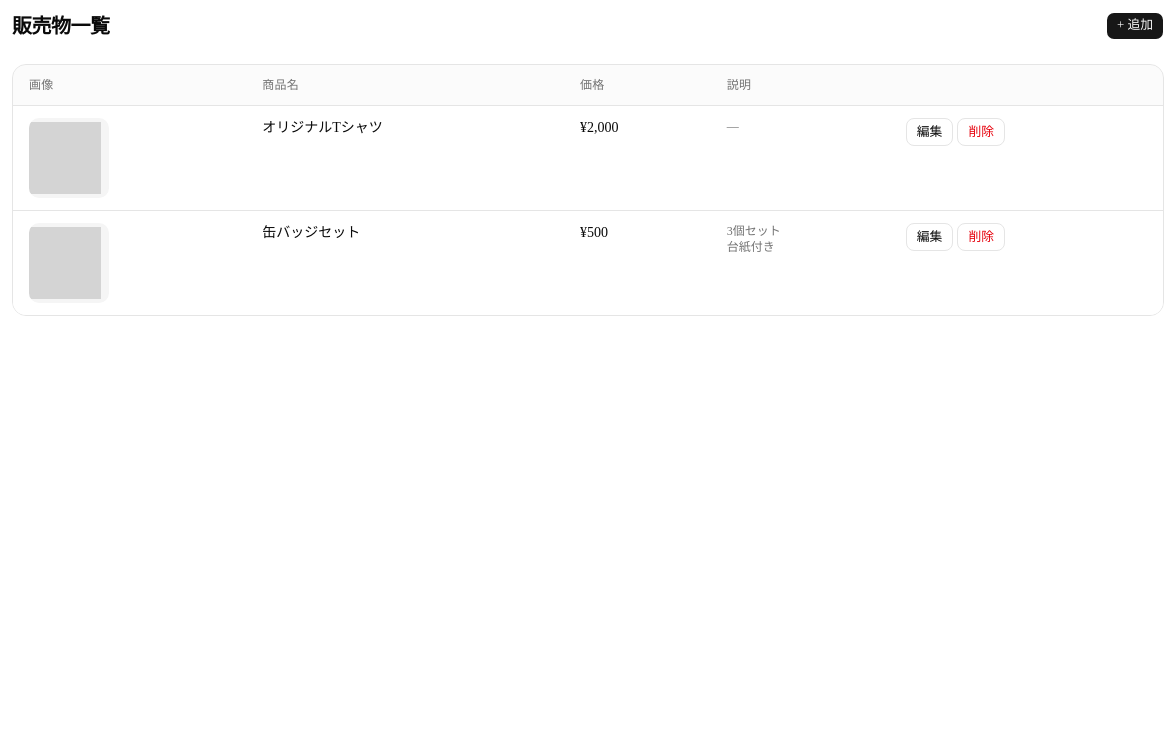
Test: ShopItemAdminPanel › キャンセルボタンでフォームを閉じる
The width and height of the screenshot is (1176, 732).
Click the button "+ 追加" at (1135, 26), box [1106, 12, 1164, 40]
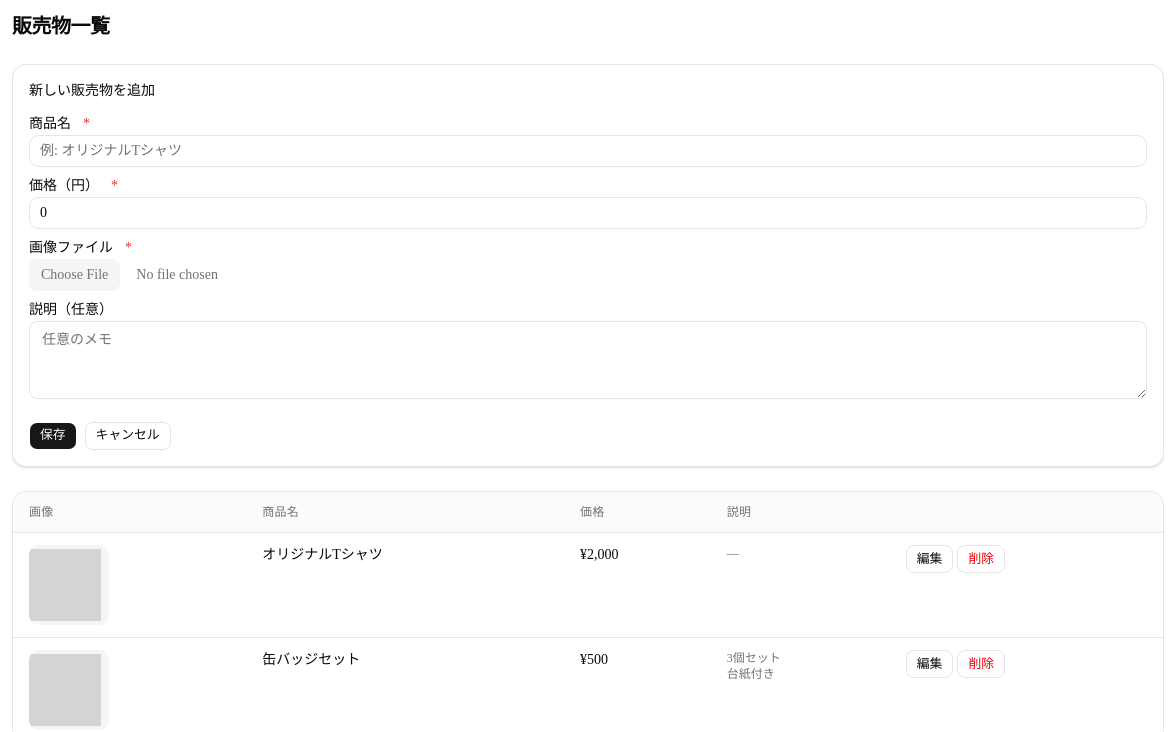
Click the button "キャンセル" at (128, 436), box [85, 422, 171, 450]
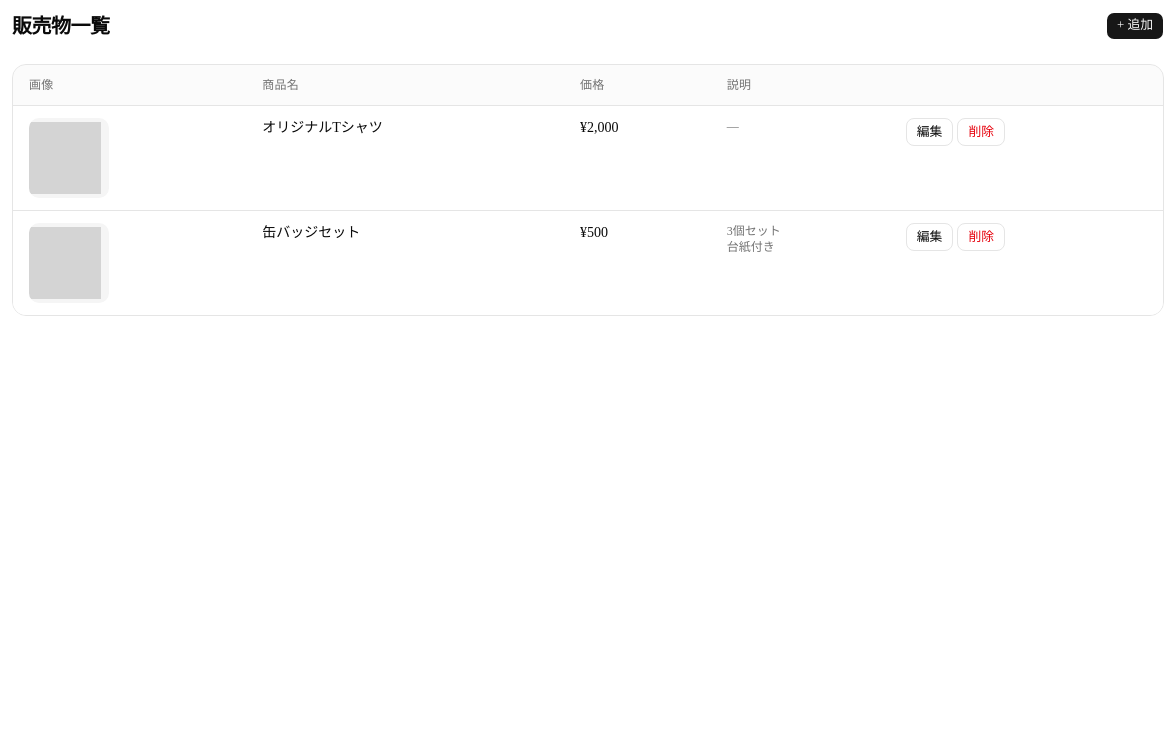
Expected: the heading "新しい販売物を追加" is gone
